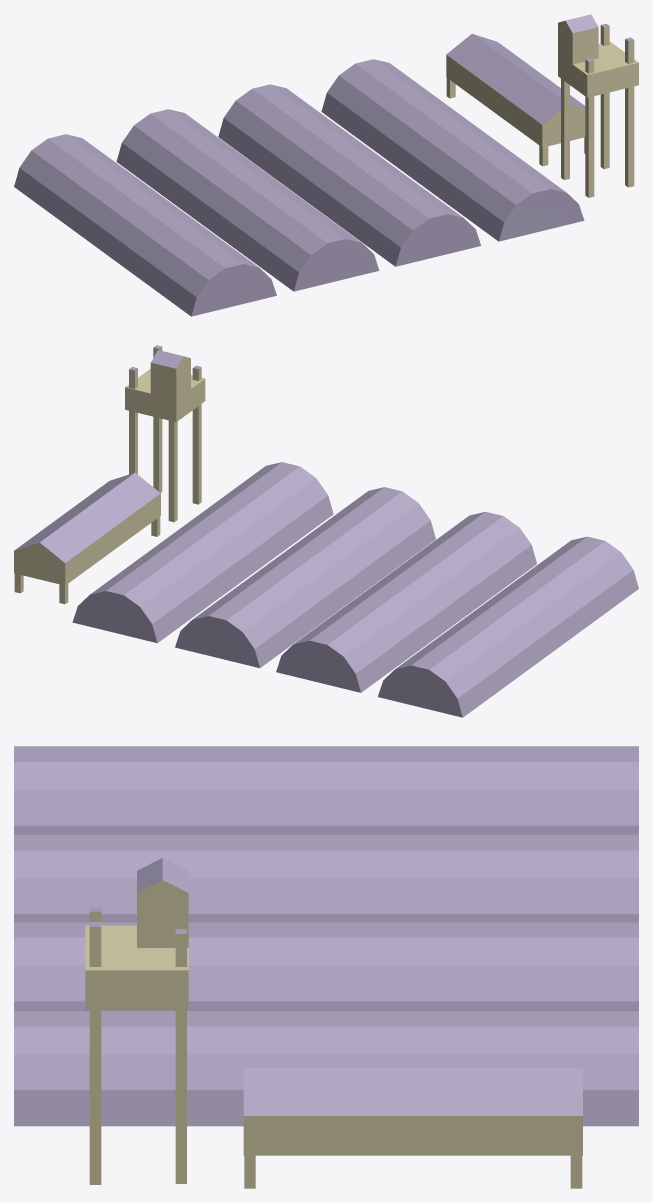
The model's file is intensive_culture.glb.
The picture shows the model from 3 angles, top to bottom: view 1: azimuth 30°, elevation 25°; view 2: azimuth 150°, elevation 25°; view 3: azimuth 270°, elevation 25°; orthographic projection. The views are drawn at different scales.
Visible parts, largest first — view 1: Cube.003; view 2: Cube.003; view 3: Cube.003.
Boxes of the visible parts, x1,y1,x2,y2 form: Cube.003: (14, 14, 638, 316); Cube.003: (14, 345, 638, 717); Cube.003: (14, 746, 638, 1188).
Size of the model in its own units: 2.92 by 0.9752 by 1.92.
